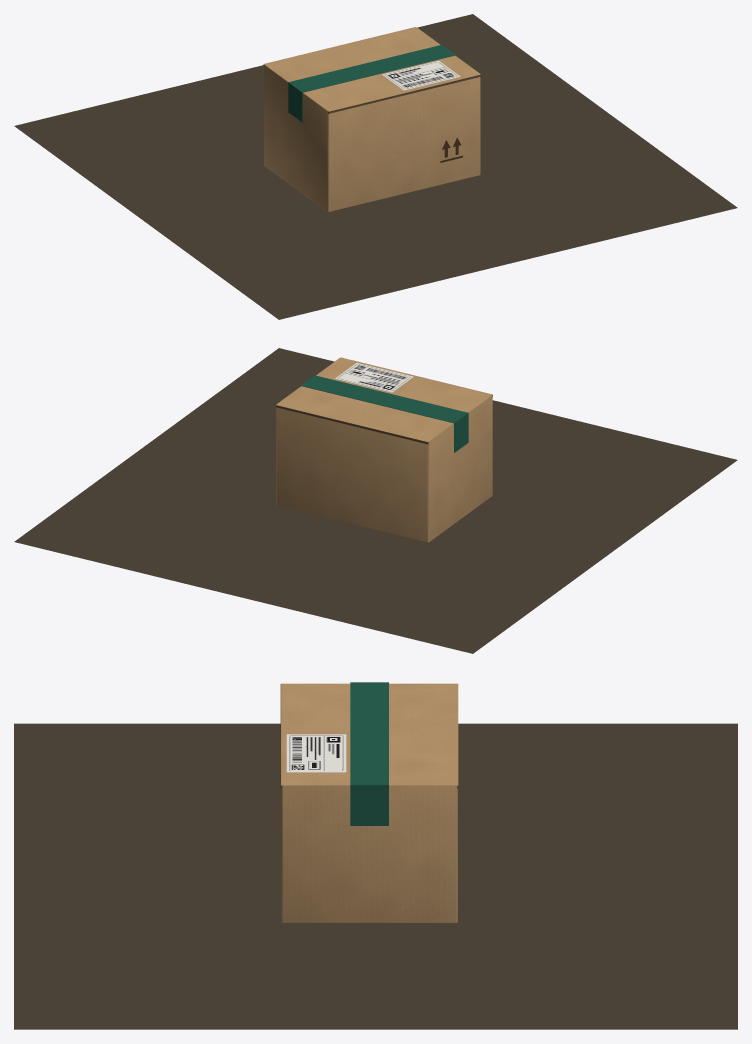
File: parcelpackprogress_parcel.glb
The picture shows the model from 3 angles, top to bottom: view 1: azimuth 30°, elevation 25°; view 2: azimuth 150°, elevation 25°; view 3: azimuth 270°, elevation 25°; orthographic projection. The views are drawn at different scales.
Parts seen in each view (by area): view 1: BoxShadow, Body, FlapBack, FlapFront, TapeTop, Label, FlapRight; view 2: BoxShadow, Body, FlapBack, TapeTop, FlapFront, Label, FlapLeft, FlapRight; view 3: BoxShadow, Body, FlapBack, FlapFront, TapeTop, FlapRight, Label, TapeB, FlapLeft.
Part boxes in pixels (left/top/right/bottom): BoxShadow: left=14, top=14, right=737, bottom=319; Body: left=264, top=28, right=480, bottom=212; FlapBack: left=263, top=27, right=439, bottom=81; FlapFront: left=303, top=55, right=480, bottom=113; TapeTop: left=288, top=45, right=455, bottom=92; Label: left=382, top=60, right=460, bottom=90; FlapRight: left=365, top=29, right=478, bottom=84; BoxShadow: left=14, top=348, right=737, bottom=653; Body: left=276, top=358, right=492, bottom=542; FlapBack: left=276, top=386, right=452, bottom=444; TapeTop: left=300, top=375, right=467, bottom=423; FlapFront: left=316, top=357, right=492, bottom=412; Label: left=335, top=363, right=413, bottom=392; FlapLeft: left=379, top=383, right=490, bottom=440; FlapRight: left=280, top=359, right=369, bottom=414; BoxShadow: left=14, top=723, right=737, bottom=1029; Body: left=281, top=785, right=457, bottom=923; FlapBack: left=389, top=683, right=458, bottom=788; FlapFront: left=280, top=683, right=350, bottom=788; TapeTop: left=350, top=682, right=388, bottom=785; FlapRight: left=286, top=749, right=452, bottom=785; Label: left=286, top=734, right=346, bottom=772; TapeB: left=350, top=785, right=388, bottom=825; FlapLeft: left=286, top=683, right=452, bottom=718.
Size of what is drawn, in the model's own units: 0.9 by 0.1913 by 0.9.
Materials: 11 (6 with a texture image).
